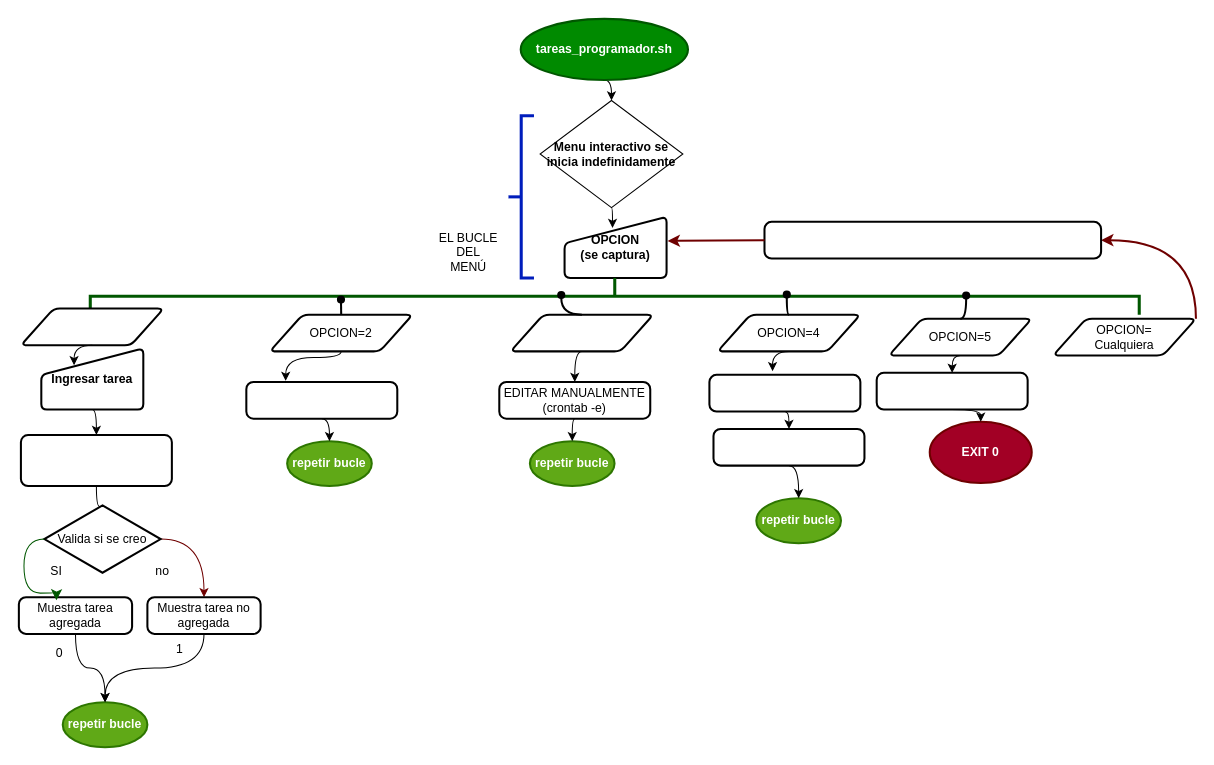
Some shapes in this 1214 by 765 pixel diagram are drawn without their labels. Here are the shapes that lost their labels. From the top down, the centre of each, then its label:
point (932, 239): OPCION INVALIDA vuelve a seleccionar
point (91, 326): OPCION=1
point (581, 332): OPCION=3
point (321, 399): Muestra tareas (crontab -l)
point (784, 392): Muestra las tareas (crontab -l 2>/dev/null)
point (951, 390): Saliendo del gestor
point (95, 460): Se guardan y se crea tareas redirigiendo el crontab -l y la tarea
point (788, 446): Elimina todas las tareas incluyendo el archivo
